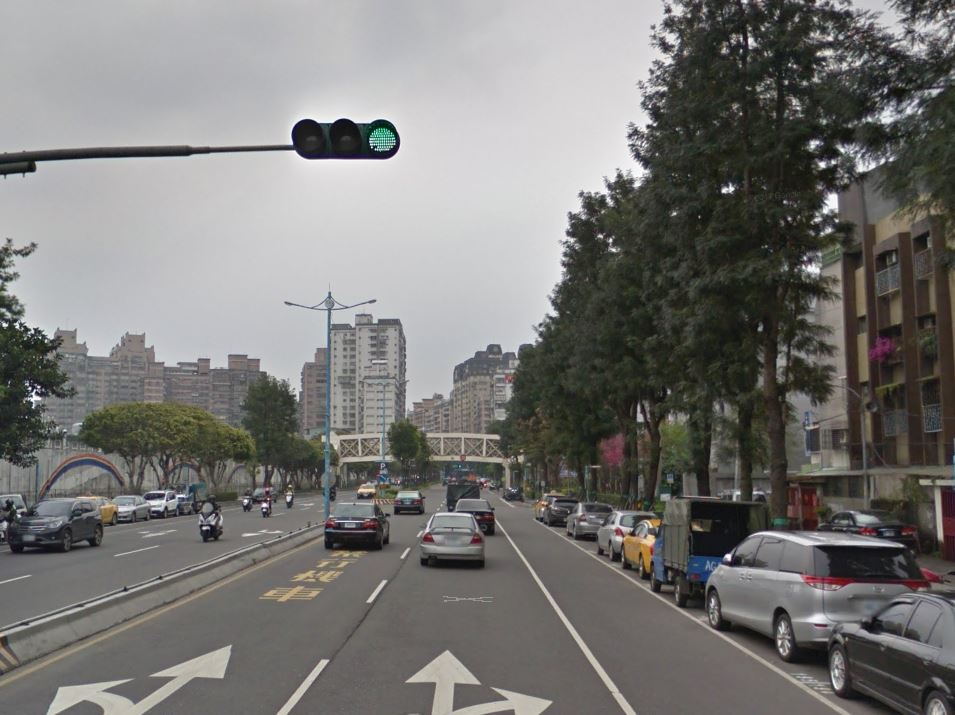Traffic_light_green: (290, 116, 403, 165)
car: (9, 494, 106, 556), (417, 508, 488, 570), (320, 499, 395, 551)
motorcycle: (196, 501, 226, 541)
